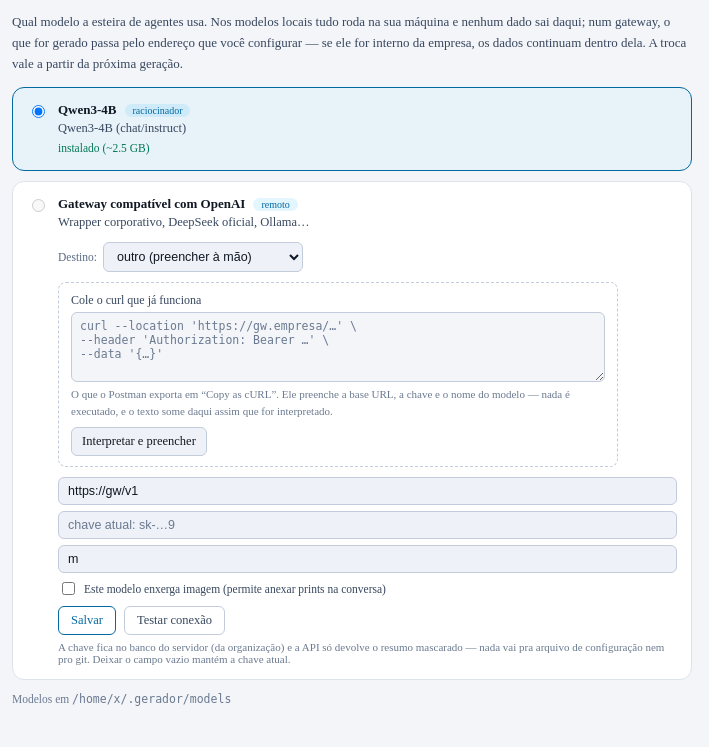
it: ModeloIaTab — card do gateway (SPEC-25 Fase 2) › falha no teste aparece como falha, não como sucesso silencioso
What coordinates should you click on to do the following:
click the button "Testar conexão"
I would click on:
 (174, 621)
Its box is [124,606,225,635].
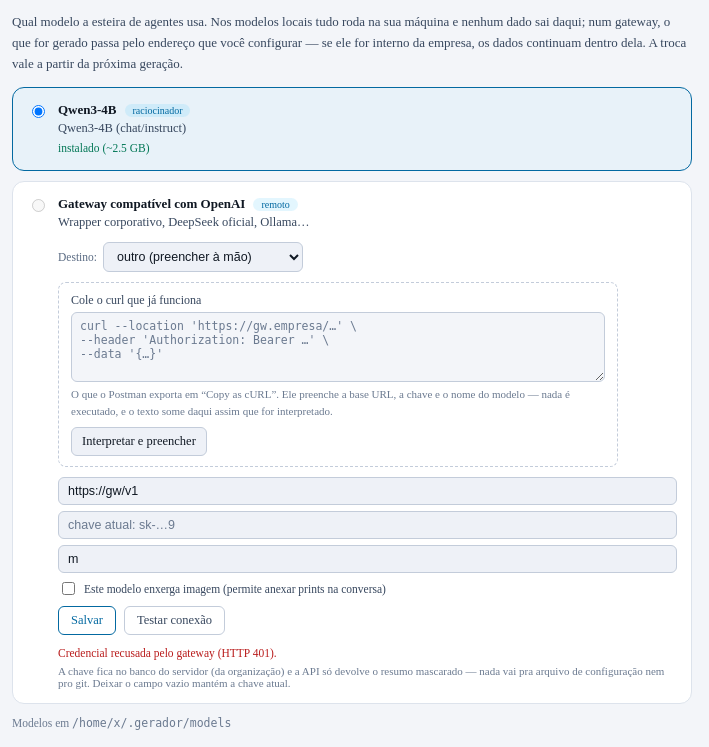
expect the text with test id "gateway-resultado" shows "Credencial recusada pelo gateway": met, box [58,647,277,659]
